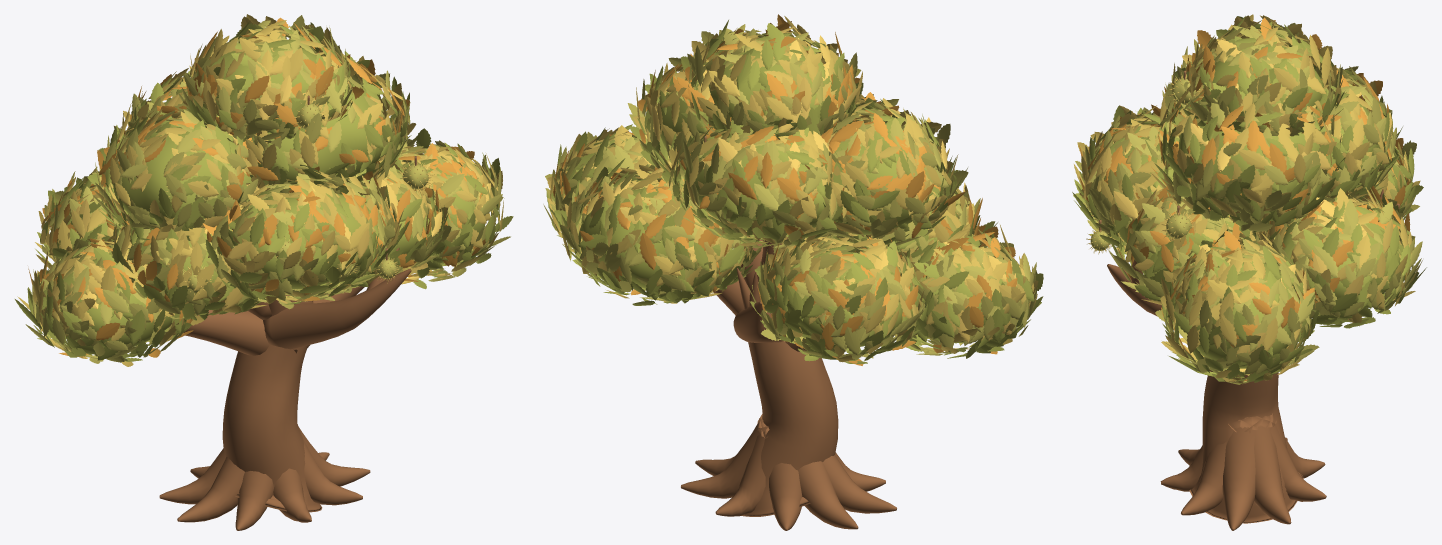
The model's file is autumn_chestnut_tree.glb.
The picture shows the model from 3 angles, left to right: view 1: azimuth 30°, elevation 25°; view 2: azimuth 150°, elevation 25°; view 3: azimuth 270°, elevation 25°; orthographic projection. The views are drawn at different scales.
Visible parts, largest first — view 1: Autumn_Autumn_Tree; view 2: Autumn_Autumn_Tree; view 3: Autumn_Autumn_Tree.
Boxes of the visible parts, x1,y1,x2,y2 form: Autumn_Autumn_Tree: (15, 14, 513, 530); Autumn_Autumn_Tree: (543, 14, 1043, 530); Autumn_Autumn_Tree: (1072, 14, 1426, 530).
Size of the model in its own units: 6.82 by 6.54 by 4.41.
